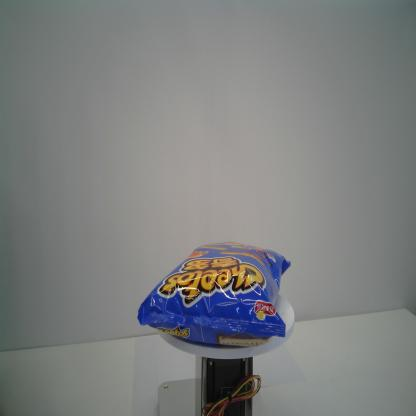Puffed Food: (135, 238, 292, 348)
